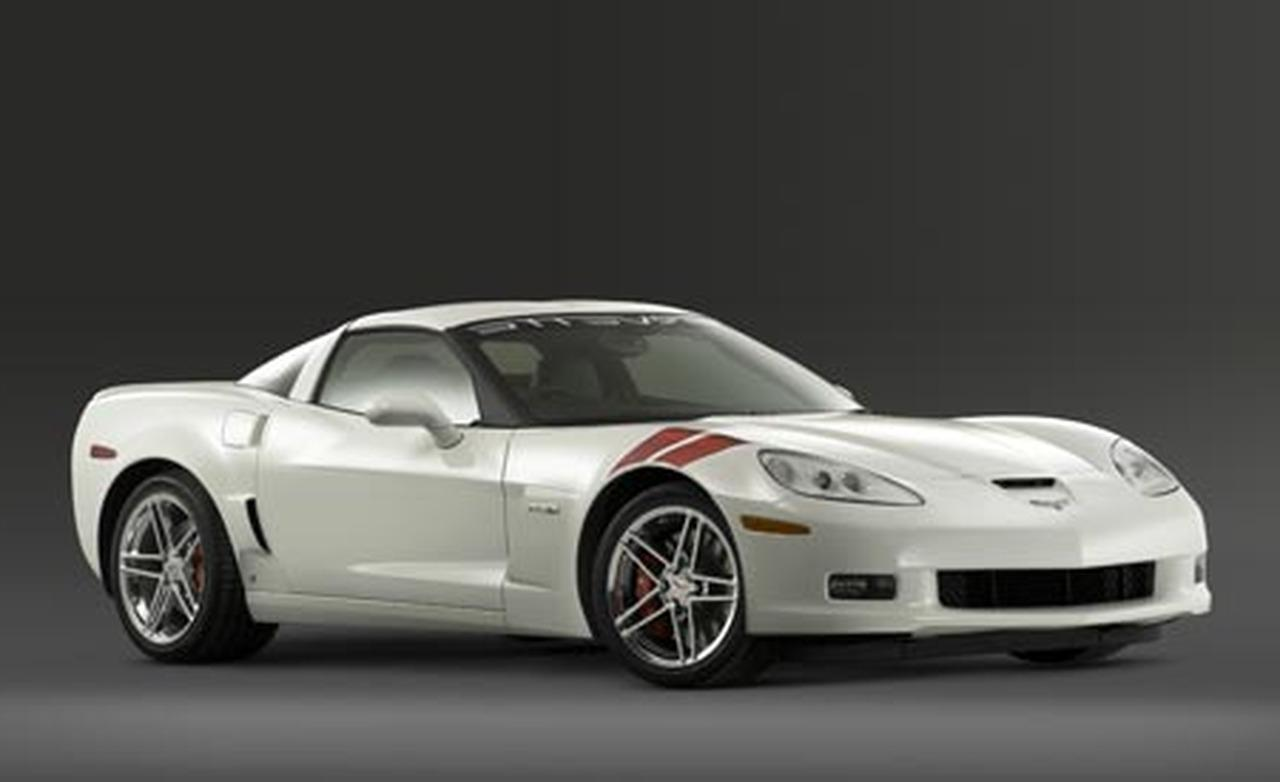Car: (55, 255, 1236, 695)
